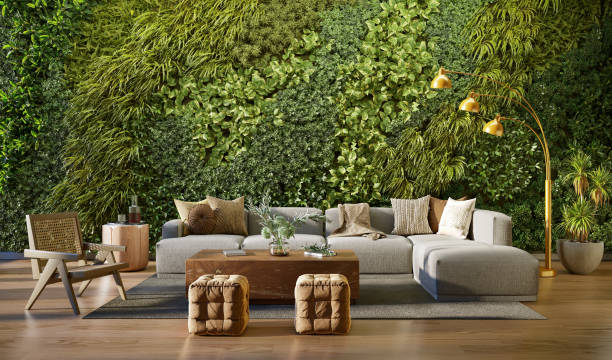chair: (21, 209, 131, 317)
floor lamp: (430, 64, 556, 278)
large plant: (561, 149, 610, 276)
side table: (99, 222, 150, 272)
small plant: (250, 192, 322, 256)
sofa: (154, 194, 540, 303)
table: (183, 246, 360, 306)
